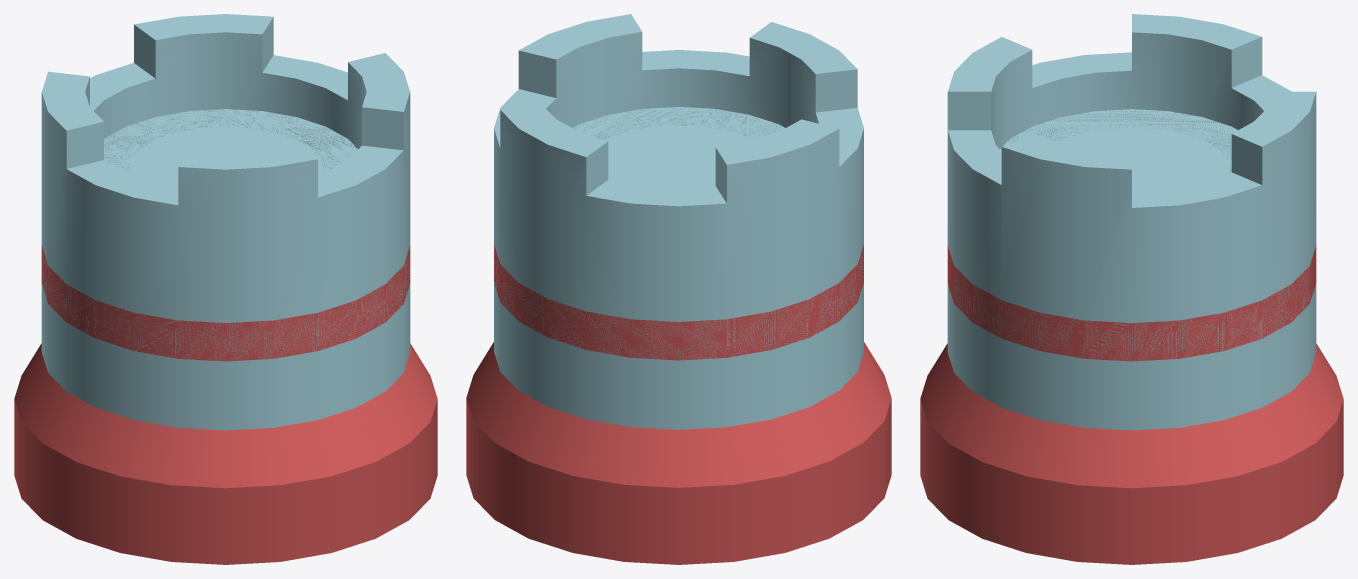
File: towerRound_sampleA.dae
3 views of the same model, side by side, from view 1: azimuth 30°, elevation 25°; view 2: azimuth 150°, elevation 25°; view 3: azimuth 270°, elevation 25° (orthographic).
Parts seen in each view (by area): view 1: towerRound_sampleA; view 2: towerRound_sampleA; view 3: towerRound_sampleA.
Boxes of the visible parts, x1,y1,x2,y2 form: towerRound_sampleA: [14, 14, 437, 564]; towerRound_sampleA: [466, 14, 891, 564]; towerRound_sampleA: [920, 14, 1343, 564].
Size of the model in its own units: 1 by 1 by 1.
